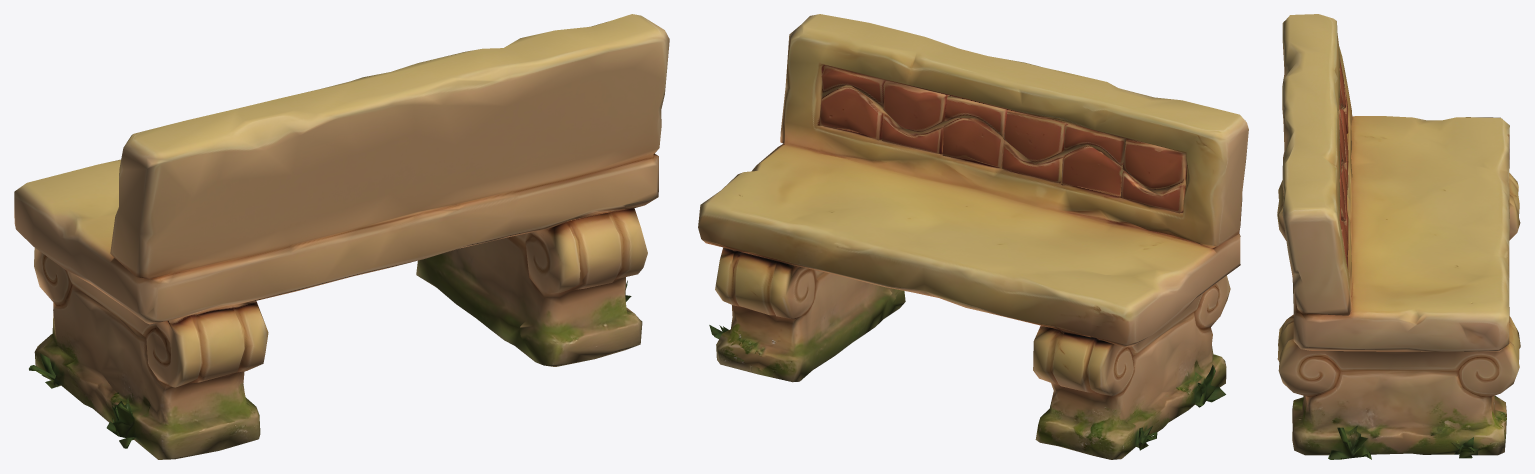
The model's file is stone_bench.glb.
The picture shows the model from 3 angles, left to right: view 1: azimuth 30°, elevation 25°; view 2: azimuth 150°, elevation 25°; view 3: azimuth 270°, elevation 25°; orthographic projection. The views are drawn at different scales.
Visible parts, largest first — view 1: stone_bench; view 2: stone_bench; view 3: stone_bench.
Boxes of the visible parts, x1=… form: stone_bench: x1=14, y1=14, x2=669, y2=459; stone_bench: x1=698, y1=14, x2=1248, y2=459; stone_bench: x1=1277, y1=14, x2=1520, y2=459.
Size of the model in its own units: 9 by 5.11 by 4.5.
Materials: 1 (1 with a texture image).
